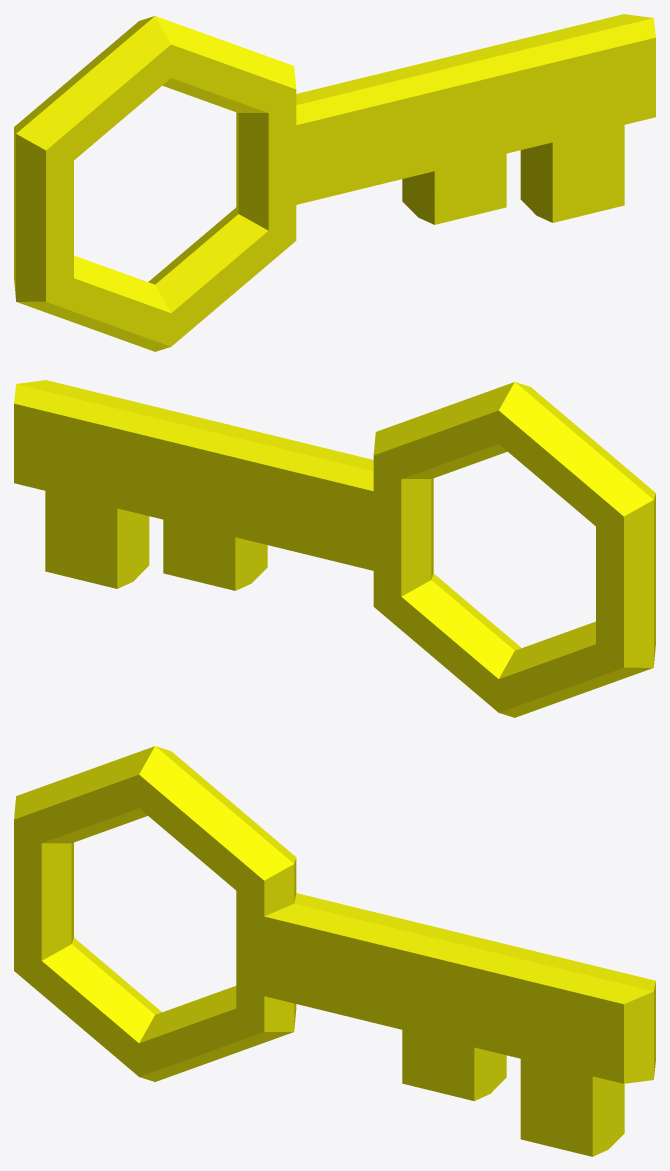
The model's file is llave.obj.
The picture shows the model from 3 angles, top to bottom: view 1: azimuth 30°, elevation 25°; view 2: azimuth 150°, elevation 25°; view 3: azimuth 330°, elevation 25°; orthographic projection.
Parts seen in each view (by area): view 1: Key.001; view 2: Key.001; view 3: Key.001.
Boxes of the visible parts, x1=… form: Key.001: x1=14, y1=14, x2=655, y2=351; Key.001: x1=14, y1=380, x2=655, y2=717; Key.001: x1=14, y1=746, x2=655, y2=1156.
Size of the model in its own units: 0.8785 by 0.4423 by 0.0766.
Materials: 1 (1 with a texture image).
